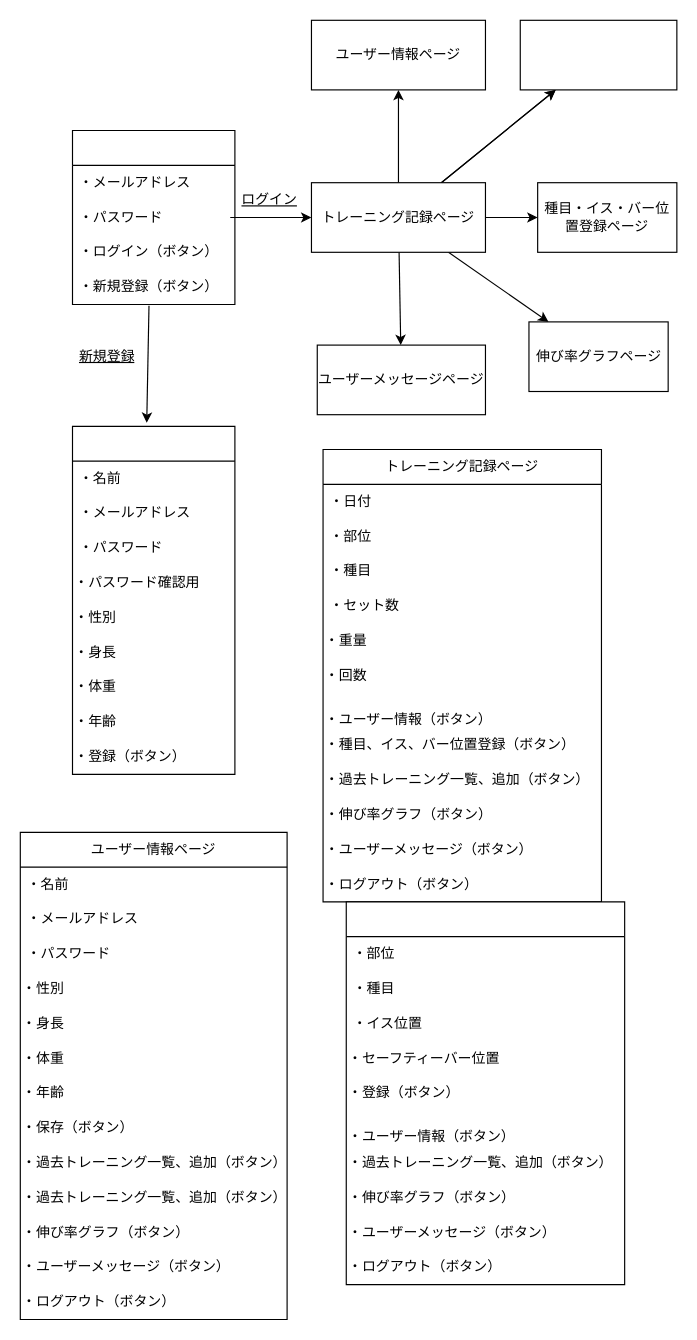
Some shapes in this 697 by 1340 pixel diagram are drawn without their labels. Each missing label, with the box of its shape:
ログインページ: (71, 129, 235, 304)
新規登録ページ: (71, 425, 235, 774)
種目・位置登録ページ: (345, 901, 625, 1285)
過去トレーニングページ: (519, 19, 677, 90)
